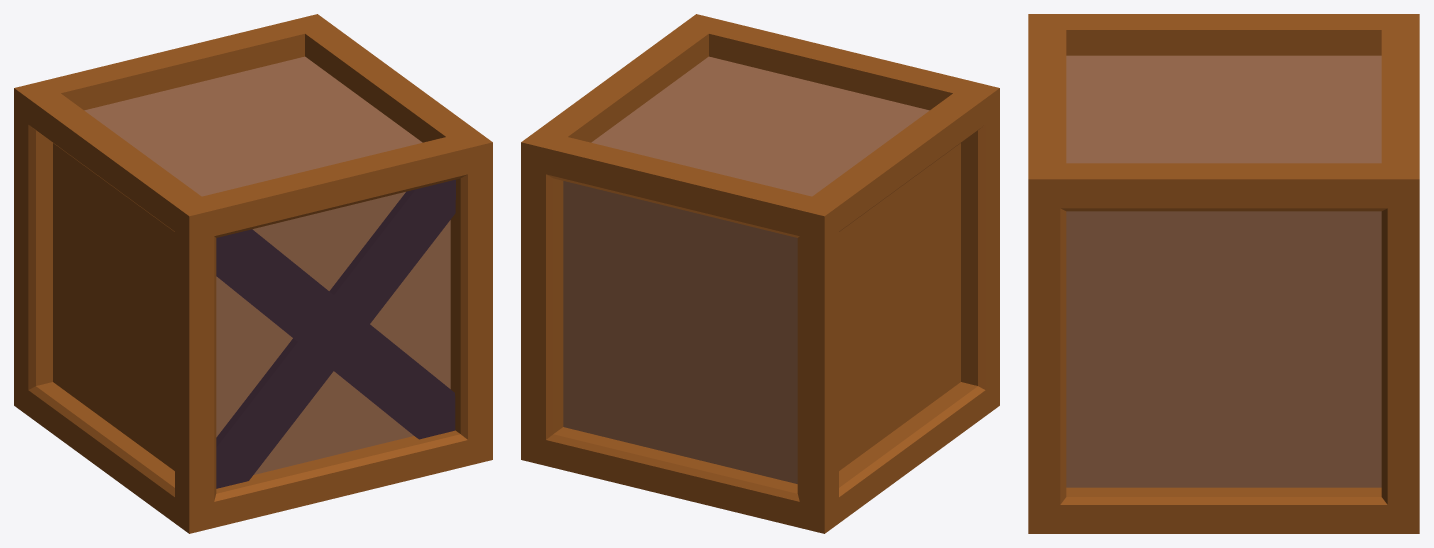
The model's file is CaixaMedia.fbx.
3 renders of one model, left to right at view 1: azimuth 30°, elevation 25°; view 2: azimuth 150°, elevation 25°; view 3: azimuth 270°, elevation 25°, orthographic. The views are drawn at different scales.
Parts seen in each view (by area): view 1: CaixaMedia; view 2: CaixaMedia; view 3: CaixaMedia.
Boxes of the visible parts, x1=… form: CaixaMedia: x1=14, y1=14, x2=492, y2=533; CaixaMedia: x1=521, y1=14, x2=999, y2=533; CaixaMedia: x1=1028, y1=14, x2=1419, y2=533.
Size of the model in its own units: 70.23 by 70.23 by 70.23.
